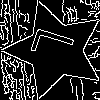L: (30, 25, 85, 67)
